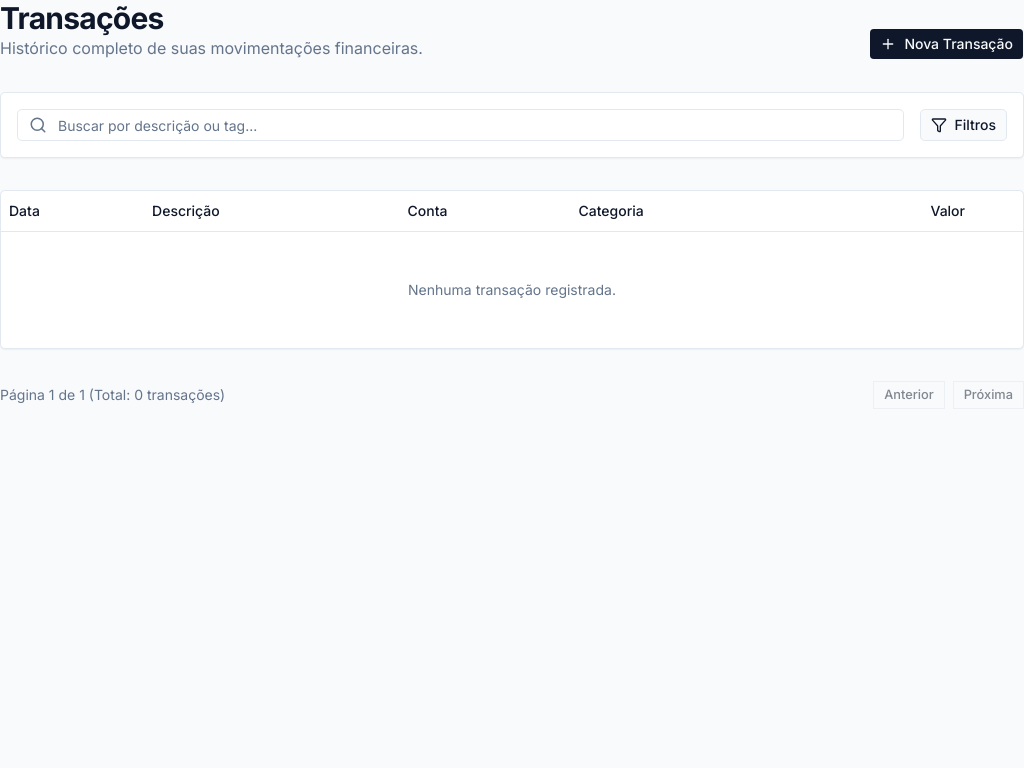
Scenario: TransactionsPage › opens create transaction dialog
The image size is (1024, 768).
Click the button "Nova Transação" at (947, 44), box 869,28 -> 1023,60
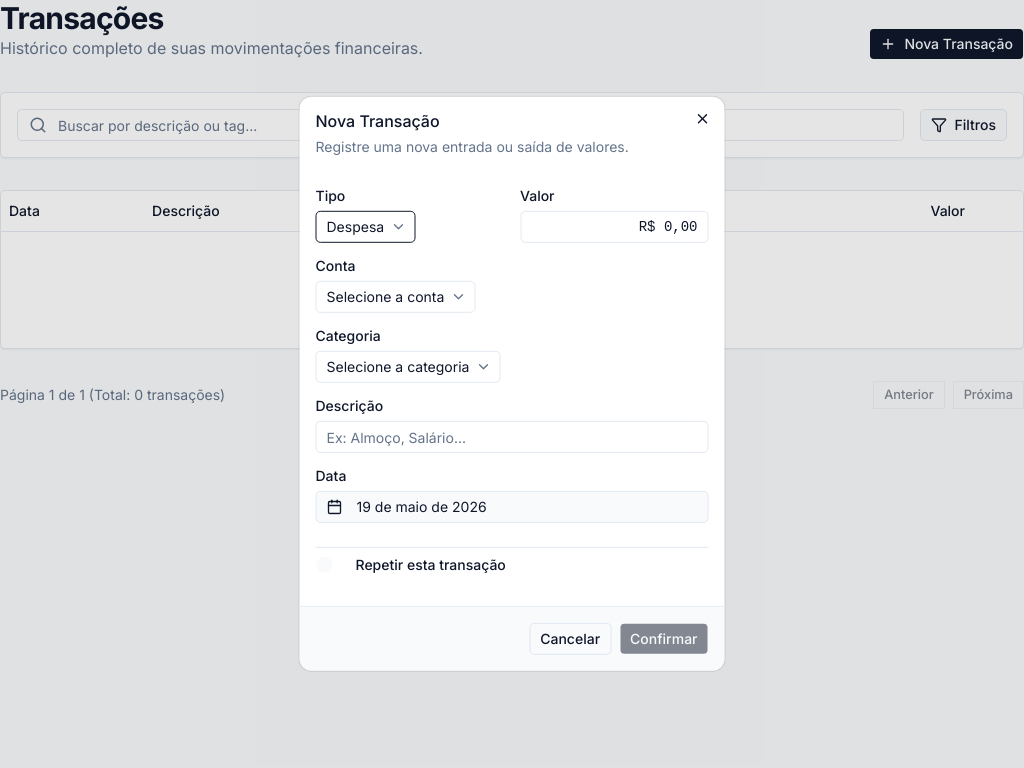
Expected: the column heading "Valor" is shown, 819,191 -> 973,231
Result: the button "Confirmar" is shown at 619,623 -> 708,655
